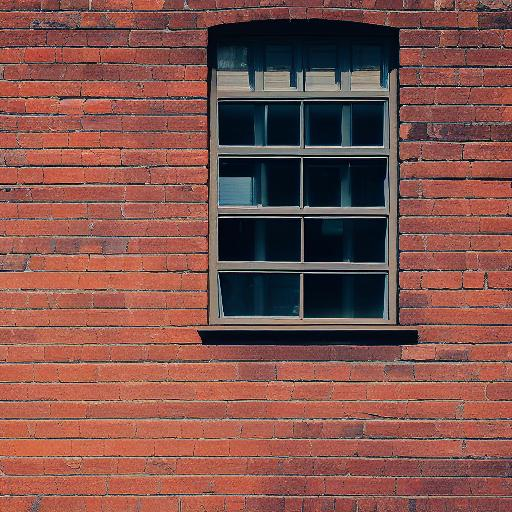Window: (196, 11, 422, 343)
